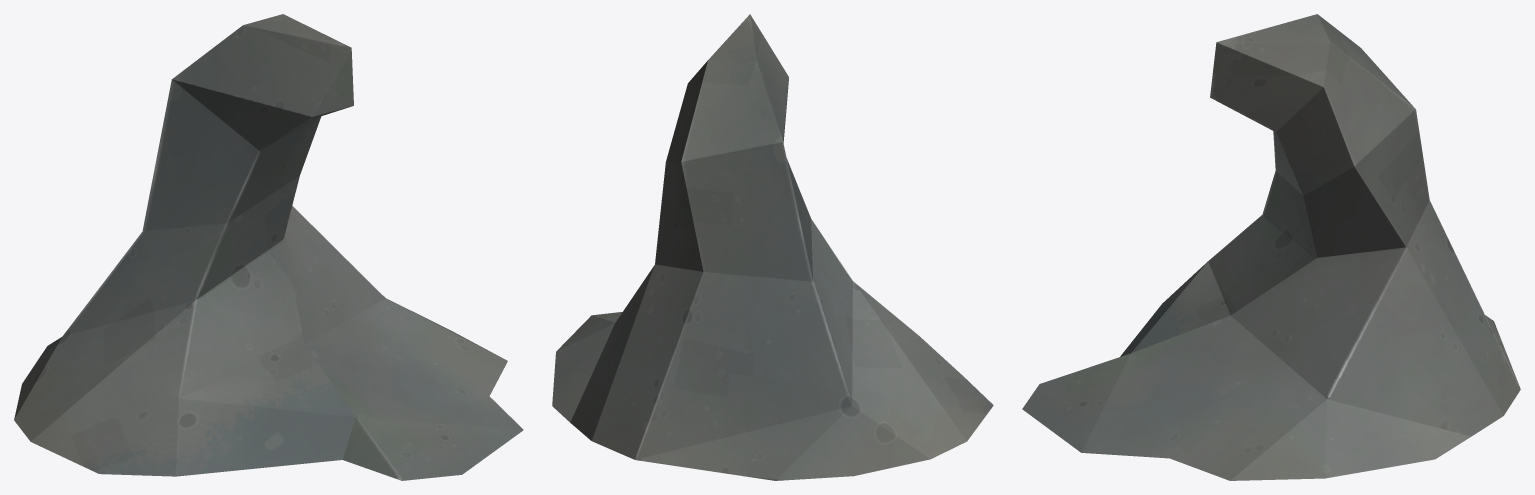
The model's file is SM_Cavern_Rocks_02.FBX.
3 views of the same model, side by side, from view 1: azimuth 30°, elevation 25°; view 2: azimuth 150°, elevation 25°; view 3: azimuth 270°, elevation 25° (orthographic). The views are drawn at different scales.
Visible parts, largest first — view 1: SM_Cavern_Rocks_02; view 2: SM_Cavern_Rocks_02; view 3: SM_Cavern_Rocks_02.
Boxes of the visible parts, x1,y1,x2,y2 form: SM_Cavern_Rocks_02: (14, 14, 523, 480); SM_Cavern_Rocks_02: (552, 14, 993, 480); SM_Cavern_Rocks_02: (1022, 14, 1520, 480).
Bounding box in the file's own units: 387 × 379 × 308.
